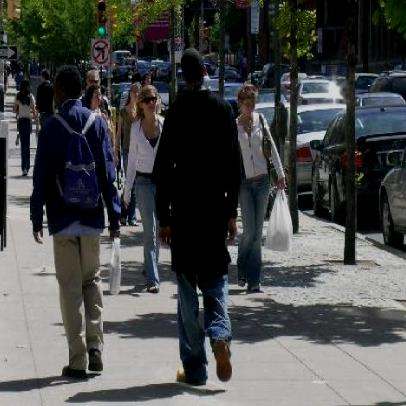ped: (153, 49, 246, 384), (34, 67, 122, 377), (238, 86, 288, 292), (126, 85, 166, 289), (15, 79, 37, 174)
